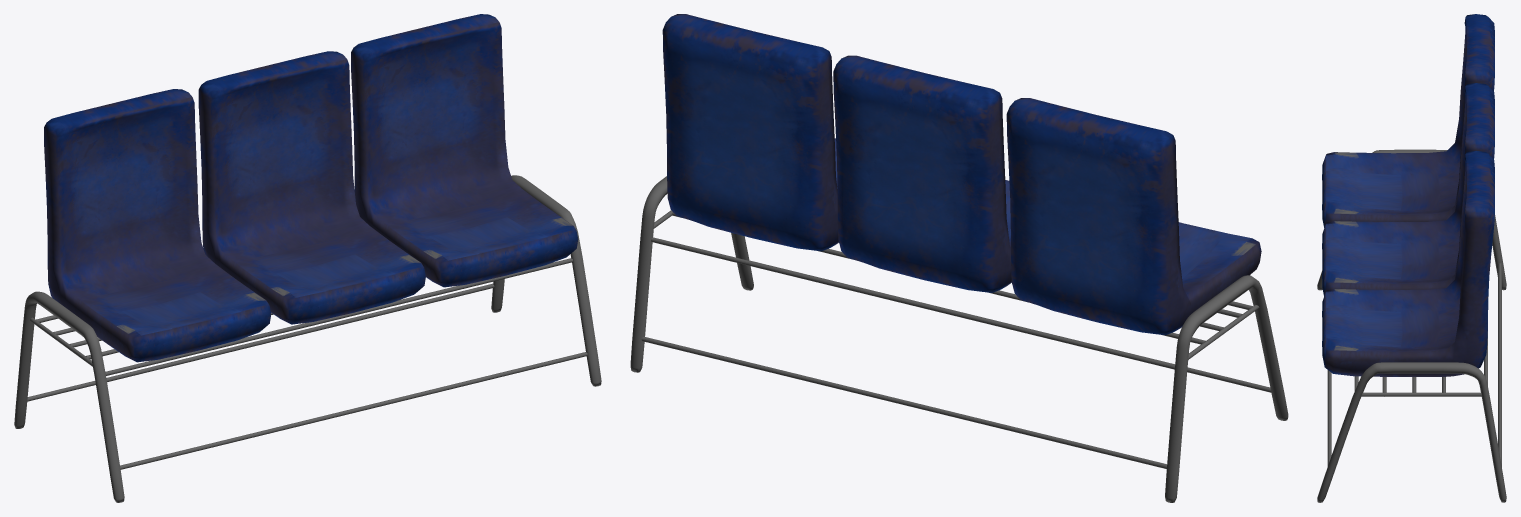
Rendered from CaideraEspera_Del_CENA.fbx.
3 renders of one model, left to right at view 1: azimuth 30°, elevation 25°; view 2: azimuth 150°, elevation 25°; view 3: azimuth 270°, elevation 25°, orthographic. The views are drawn at different scales.
Visible parts, largest first — view 1: Cube.015; view 2: Cube.015; view 3: Cube.015.
Boxes of the visible parts, x1,y1,x2,y2 form: Cube.015: (14, 14, 601, 502); Cube.015: (630, 14, 1288, 502); Cube.015: (1317, 14, 1506, 502).
Bounding box in the file's own units: 169 × 103 × 62.06.
Materials: 1 (1 with a texture image).
